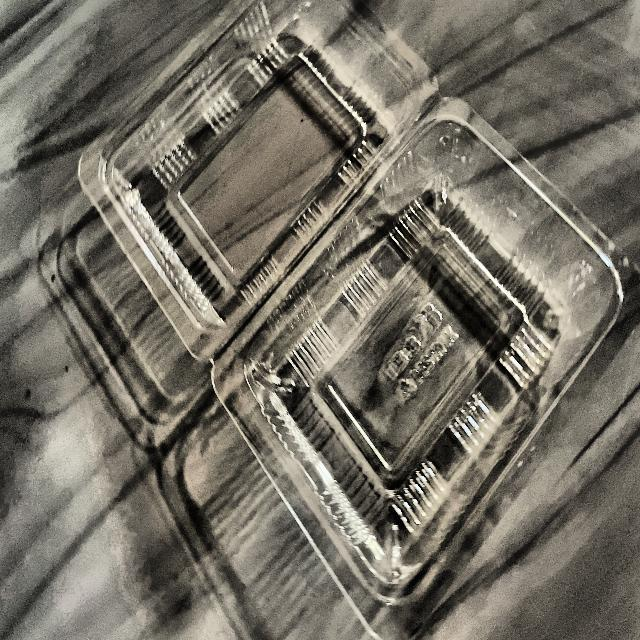plastic container: (112, 48, 622, 613)
